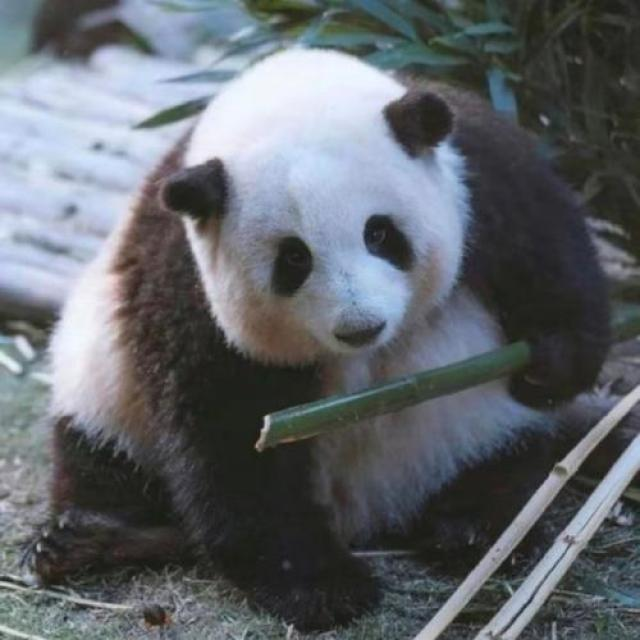panda: (67, 42, 609, 594)
